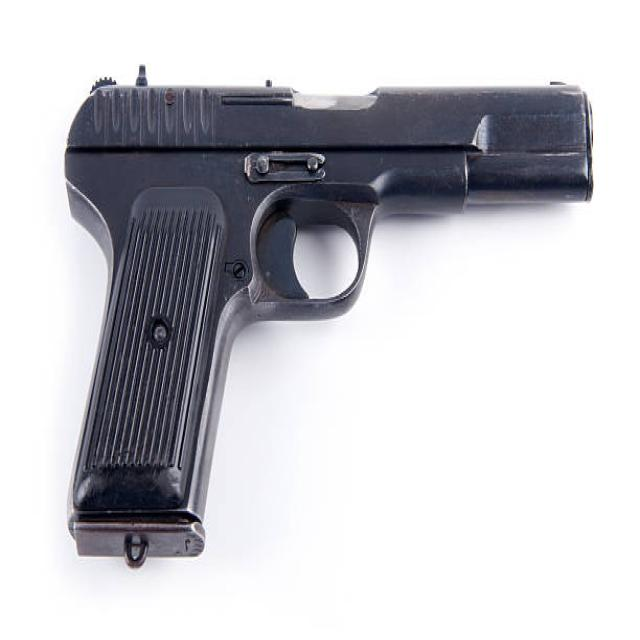pistol: (52, 54, 602, 582)
